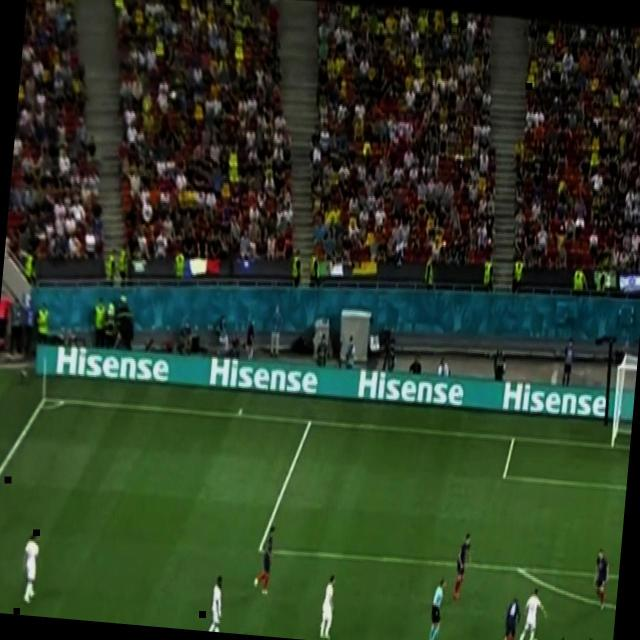ball: (531, 636, 539, 640)
player-white: (252, 522, 277, 600), (516, 588, 550, 640), (20, 531, 42, 608), (452, 532, 474, 602), (317, 573, 338, 640), (205, 572, 228, 633), (426, 577, 448, 640), (590, 547, 610, 613), (501, 594, 523, 640)
